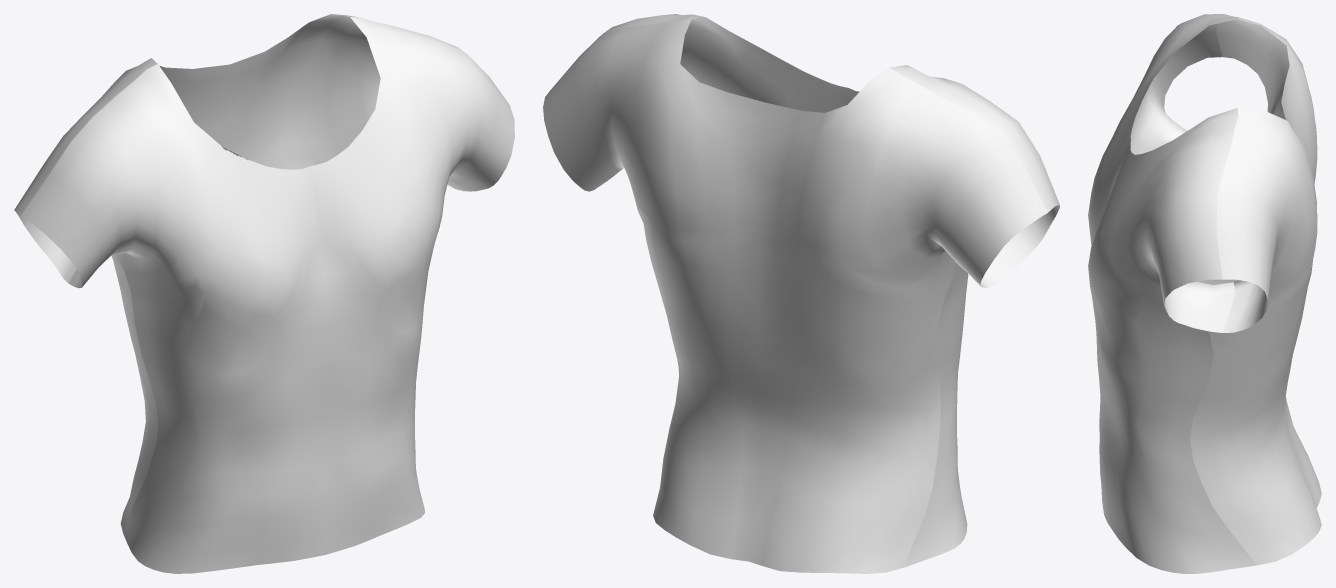
Rendered from elvs-crude-t-shirt-male.glb.
3 views of the same model, side by side, from view 1: azimuth 30°, elevation 25°; view 2: azimuth 150°, elevation 25°; view 3: azimuth 270°, elevation 25° (orthographic). The views are drawn at different scales.
Visible parts, largest first — view 1: crude t-shirt male; view 2: crude t-shirt male; view 3: crude t-shirt male.
Boxes of the visible parts, x1,y1,x2,y2 form: crude t-shirt male: [14, 14, 514, 573]; crude t-shirt male: [543, 14, 1059, 573]; crude t-shirt male: [1088, 14, 1321, 573].
Bounding box in the file's own units: 56.39 × 52.68 × 24.96.
1 material, 1 textured.
